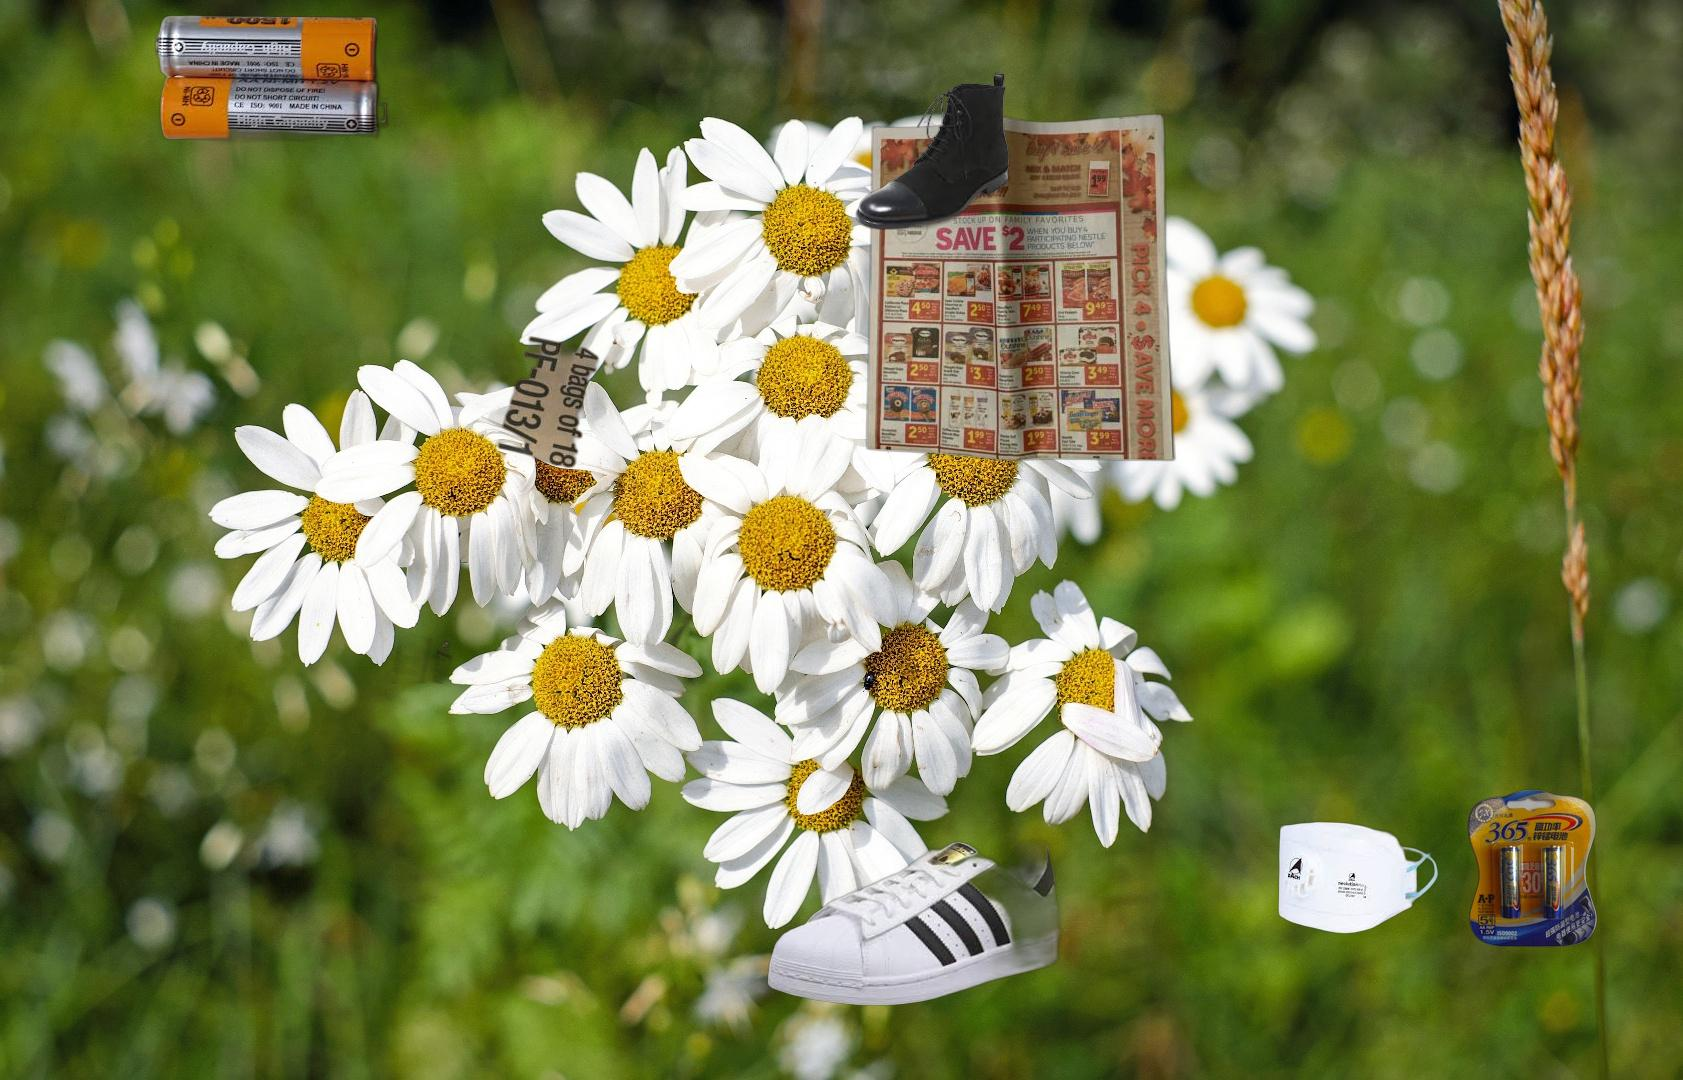battery: (150, 12, 391, 164), (1465, 787, 1600, 950)
paper: (861, 110, 1180, 465)
shoes: (765, 837, 1064, 1006), (853, 70, 1012, 234)
trash: (1275, 779, 1457, 936)
trashbox-cardboard: (283, 333, 604, 684)
